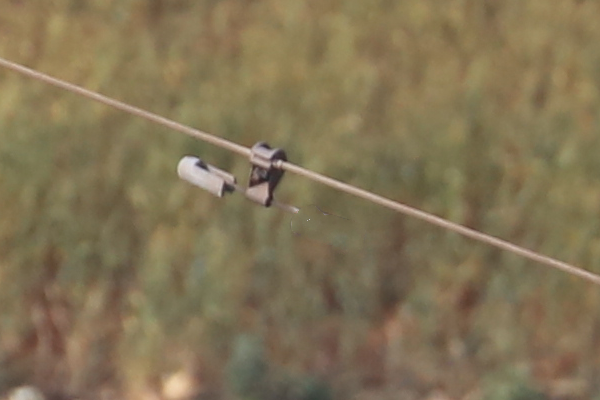damper_defect: (175, 133, 300, 213)
